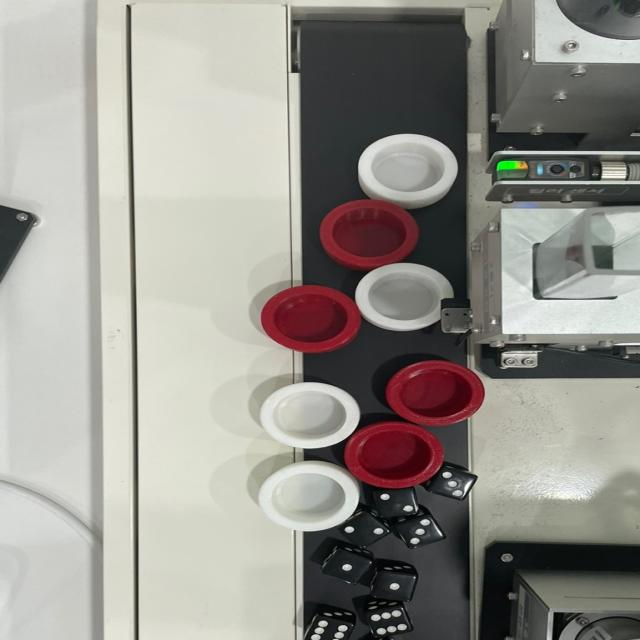DICE1: (370, 573, 419, 599), (326, 552, 366, 583)
DICE2: (338, 514, 392, 548), (372, 490, 420, 519)
DICE3: (426, 466, 482, 504), (396, 514, 443, 548)
DICE6: (367, 608, 415, 638), (306, 619, 350, 640)
RedChip: (320, 197, 419, 265), (386, 360, 486, 426), (263, 284, 360, 352), (348, 424, 446, 488)
WhiteChip: (258, 463, 362, 531), (358, 132, 462, 196), (263, 381, 359, 449), (359, 264, 453, 328)
